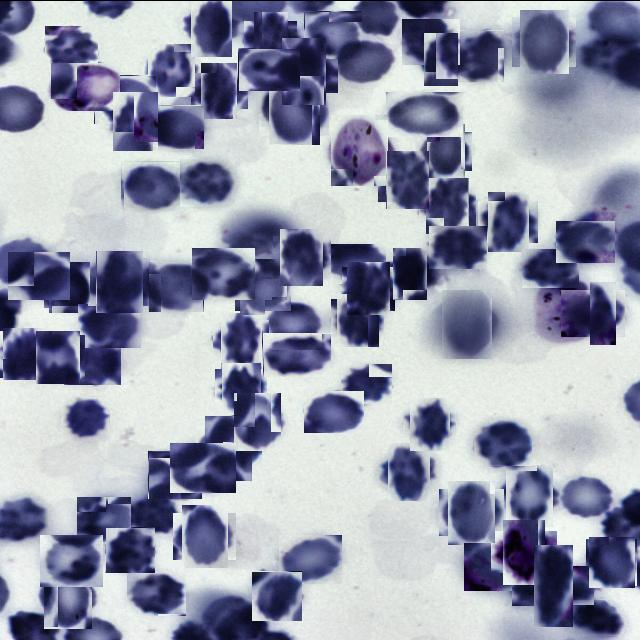difficult: (497, 524, 551, 578)
red blood cell: (264, 78, 325, 140), (523, 554, 584, 616), (436, 294, 496, 354), (385, 90, 463, 136), (200, 419, 258, 476), (170, 442, 236, 492), (192, 247, 255, 299), (40, 534, 103, 586), (516, 12, 572, 70), (276, 42, 332, 98), (279, 534, 342, 583), (7, 250, 70, 299), (444, 484, 499, 540), (41, 568, 96, 624), (565, 285, 621, 340), (464, 542, 528, 590), (121, 160, 182, 210), (94, 74, 156, 123), (177, 508, 232, 563), (263, 332, 331, 376), (334, 36, 396, 84), (92, 254, 146, 309), (502, 468, 556, 522), (148, 260, 204, 311), (265, 299, 322, 349), (231, 394, 283, 448), (304, 10, 362, 58), (78, 303, 141, 347), (126, 569, 186, 615), (474, 418, 532, 465), (237, 260, 289, 312), (110, 95, 162, 147), (76, 495, 134, 541), (402, 18, 460, 64), (238, 47, 300, 90), (186, 0, 237, 52), (482, 196, 534, 247), (453, 29, 504, 81), (180, 158, 235, 206), (559, 473, 615, 520), (148, 450, 202, 498), (146, 104, 204, 148), (429, 226, 487, 270), (382, 154, 432, 205), (304, 390, 364, 432), (64, 340, 121, 384), (147, 44, 197, 94), (384, 446, 434, 496), (422, 180, 472, 230), (277, 232, 327, 282), (252, 570, 302, 620), (1, 328, 51, 378), (44, 24, 98, 70), (556, 220, 615, 262), (217, 316, 266, 365), (587, 537, 636, 586), (344, 264, 393, 312), (34, 332, 82, 381), (328, 243, 386, 283), (334, 296, 382, 344), (105, 526, 155, 572), (522, 248, 579, 287), (406, 400, 453, 447), (196, 66, 242, 114), (422, 127, 468, 174), (46, 264, 93, 310), (61, 396, 110, 440), (340, 362, 392, 403), (218, 365, 264, 411), (248, 15, 292, 60), (569, 600, 624, 636), (131, 492, 180, 532), (418, 36, 462, 80), (388, 252, 432, 294)
trophozoite: (328, 118, 392, 182), (533, 278, 590, 344), (50, 61, 120, 110)
